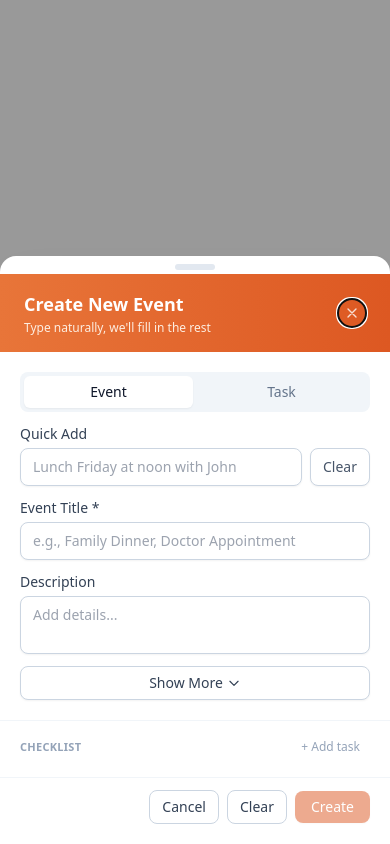
Test: EventFormModal - Date & Time Layout › should show start and end time on same line when all-day is unchecked
Click the button "Show More" at (195, 683), box [20, 666, 370, 700]
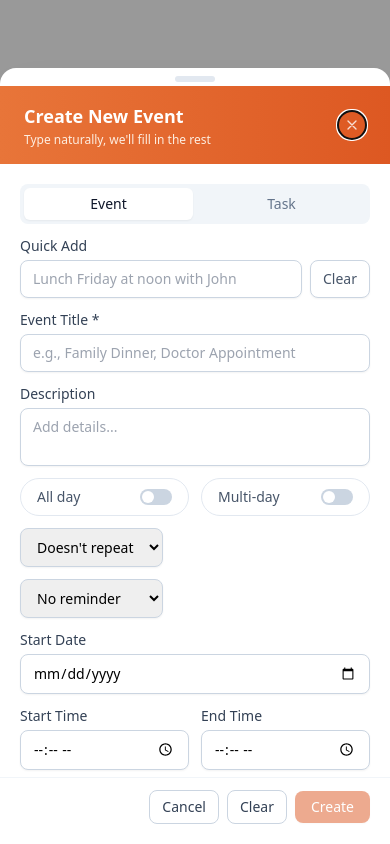
Expected: the time field with id "start-time" is shown, [20, 730, 189, 770]
Expected: the time field with id "end-time" is shown, [201, 730, 370, 770]
